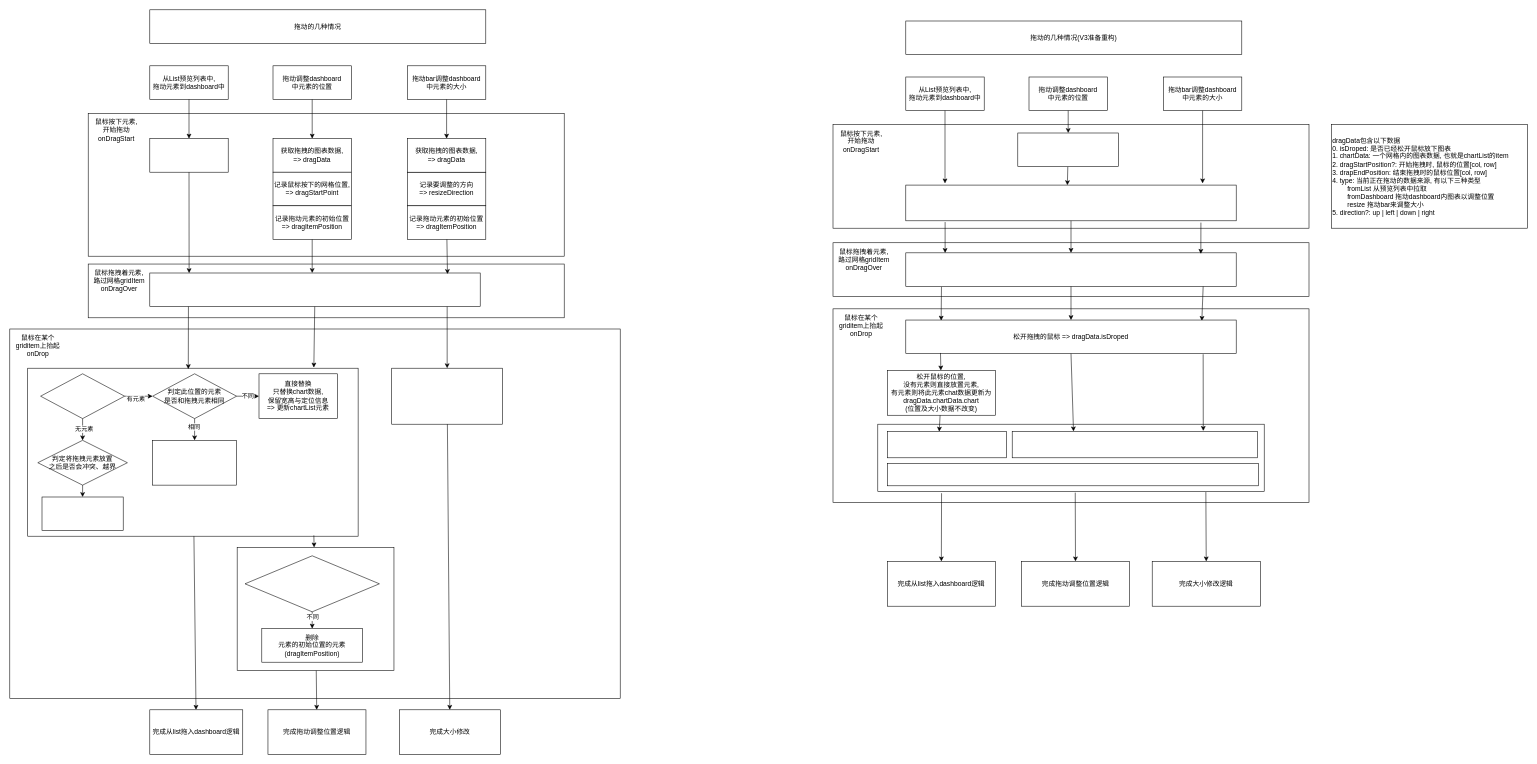
The diagram is 1537 pixels wide and 764 high, and some of its shapes have lost their labels. The shapes that lost their labels are listed below. From the top down, each one's centre as x and y in pixels, then its label:
pixel 188 155: 初始化dragData数据 并存储
pixel 1068 149: 计算触发时鼠标 所在网格位置 dragData. dragStartPosition
pixel 1070 203: 记录图表数据dragData. chartData
pixel 314 289: 时时记录当前鼠标 所在的位置 => dropPosition
pixel 1070 269: todo: 时时记录当前鼠标所在的位置 (未实现, 未来可能用此数据来处理拖拽预摆放的效果) => dragData.drapEndPosition
pixel 82 396: 判定要放置的位置上, 是否已经有元素
pixel 447 396: 根据释放元素时的鼠标 像素 位置, 计算要拖动到的位置, 判断越界与冲突 => 更新chartList元素
pixel 194 462: 比如一个2*1的元素, 向右拖动一个位置, 拖拽的元素和放置位置的元素相同. 此时也要移动 => 更新chartList元素
pixel 947 444: 更新chartList
pixel 1134 444: 判定不重叠. 不越界, 则更新 chartList
pixel 1073 474: 记录每次chartList更新的深拷贝快照, 用于实现撤回重做功能
pixel 82 513: 放置元素 => 为chartList增加此数据
pixel 311 583: 判断 拖动元素的初始位置(dragItemPosition) 和 鼠标拖动到的位置(dropPosition) 是否相同
